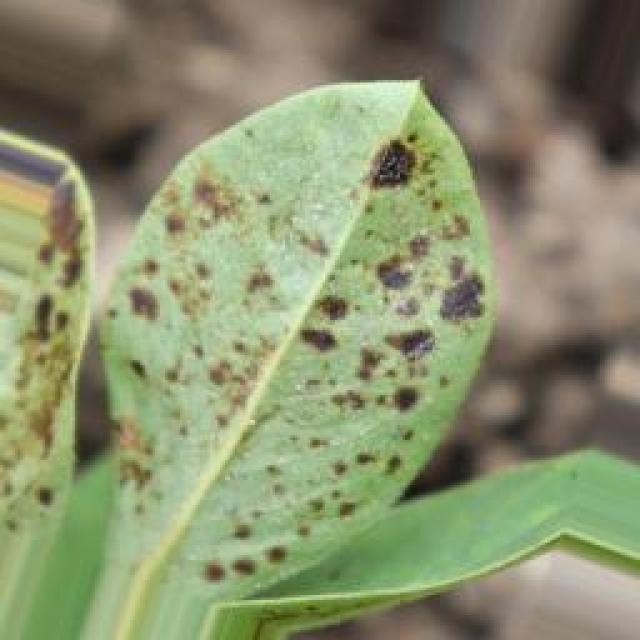Whitefly: (0, 98, 490, 592)
